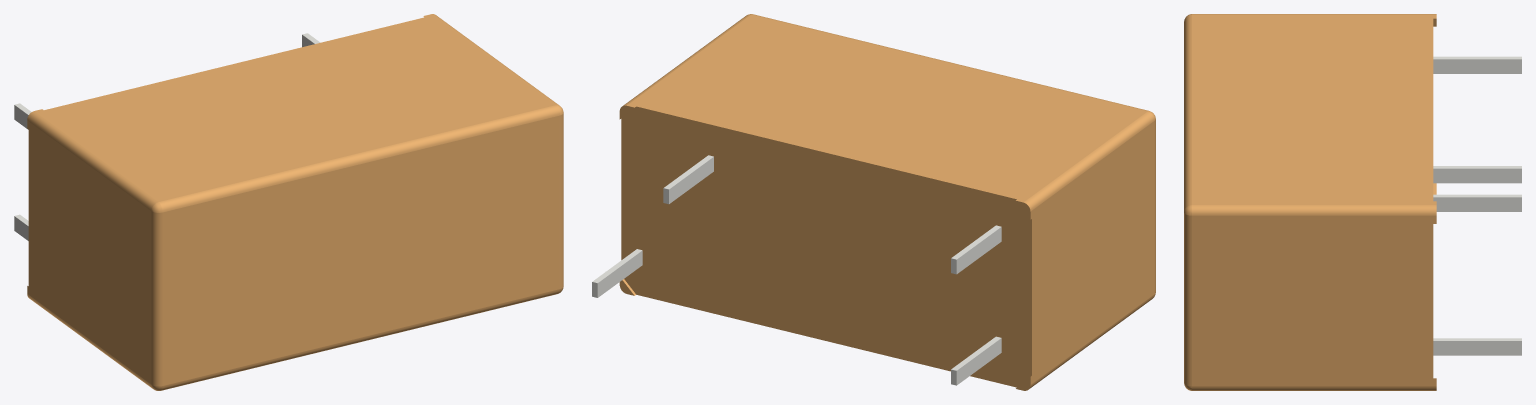
File: Relay_SPST_Schrack-RT1-FormA_RM5mm.glb
3 renders of one model, left to right at view 1: azimuth 30°, elevation 25°; view 2: azimuth 150°, elevation 25°; view 3: azimuth 270°, elevation 25°, orthographic.
Visible parts, largest first — view 1: Shape_IndexedFaceSet.042, Shape_IndexedFaceSet.011, Shape_IndexedFaceSet.007, Shape_IndexedFaceSet.036, Shape_IndexedFaceSet.029, Shape_IndexedFaceSet.031, Shape_IndexedFaceSet.028, Shape_IndexedFaceSet.037, Shape_IndexedFaceSet.030; view 2: Shape_IndexedFaceSet.005, Shape_IndexedFaceSet.011, Shape_IndexedFaceSet.007, Shape_IndexedFaceSet.028, Shape_IndexedFaceSet.014, Shape_IndexedFaceSet.022, Shape_IndexedFaceSet.018, Shape_IndexedFaceSet.001, Shape_IndexedFaceSet.036, Shape_IndexedFaceSet.030; view 3: Shape_IndexedFaceSet.011, Shape_IndexedFaceSet.012, Shape_IndexedFaceSet.035, Shape_IndexedFaceSet.036, Shape_IndexedFaceSet.016, Shape_IndexedFaceSet.037, Shape_IndexedFaceSet.020, Shape_IndexedFaceSet.024, Shape_IndexedFaceSet.003, Shape_IndexedFaceSet.032, Shape_IndexedFaceSet.002, Shape_IndexedFaceSet.019.
Part boxes in pixels (x1,y1,x2,y2): Shape_IndexedFaceSet.042: (162,115,559,385); Shape_IndexedFaceSet.011: (34,14,554,201); Shape_IndexedFaceSet.007: (27,120,151,384); Shape_IndexedFaceSet.036: (159,105,559,212); Shape_IndexedFaceSet.029: (151,211,162,386); Shape_IndexedFaceSet.031: (161,289,559,390); Shape_IndexedFaceSet.028: (27,111,157,210); Shape_IndexedFaceSet.037: (559,113,563,288); Shape_IndexedFaceSet.030: (27,294,152,388); Shape_IndexedFaceSet.005: (621,106,1031,387); Shape_IndexedFaceSet.011: (627,15,1147,202); Shape_IndexedFaceSet.007: (1030,121,1154,384); Shape_IndexedFaceSet.028: (1023,111,1154,211); Shape_IndexedFaceSet.014: (956,338,1001,385); Shape_IndexedFaceSet.022: (597,250,642,297); Shape_IndexedFaceSet.018: (956,227,1001,273); Shape_IndexedFaceSet.001: (669,157,713,203); Shape_IndexedFaceSet.036: (751,14,1148,111); Shape_IndexedFaceSet.030: (1029,294,1154,388); Shape_IndexedFaceSet.011: (1192,14,1436,204); Shape_IndexedFaceSet.012: (1192,215,1436,386); Shape_IndexedFaceSet.035: (1192,205,1436,215); Shape_IndexedFaceSet.036: (1184,14,1191,211); Shape_IndexedFaceSet.016: (1433,168,1521,183); Shape_IndexedFaceSet.037: (1184,213,1191,386); Shape_IndexedFaceSet.020: (1433,59,1521,73); Shape_IndexedFaceSet.024: (1433,341,1521,355); Shape_IndexedFaceSet.003: (1433,197,1521,211); Shape_IndexedFaceSet.032: (1192,386,1436,390); Shape_IndexedFaceSet.002: (1433,194,1521,197); Shape_IndexedFaceSet.019: (1433,56,1521,59).
Size of the model in its own units: 11.42 by 5 by 8.27.
